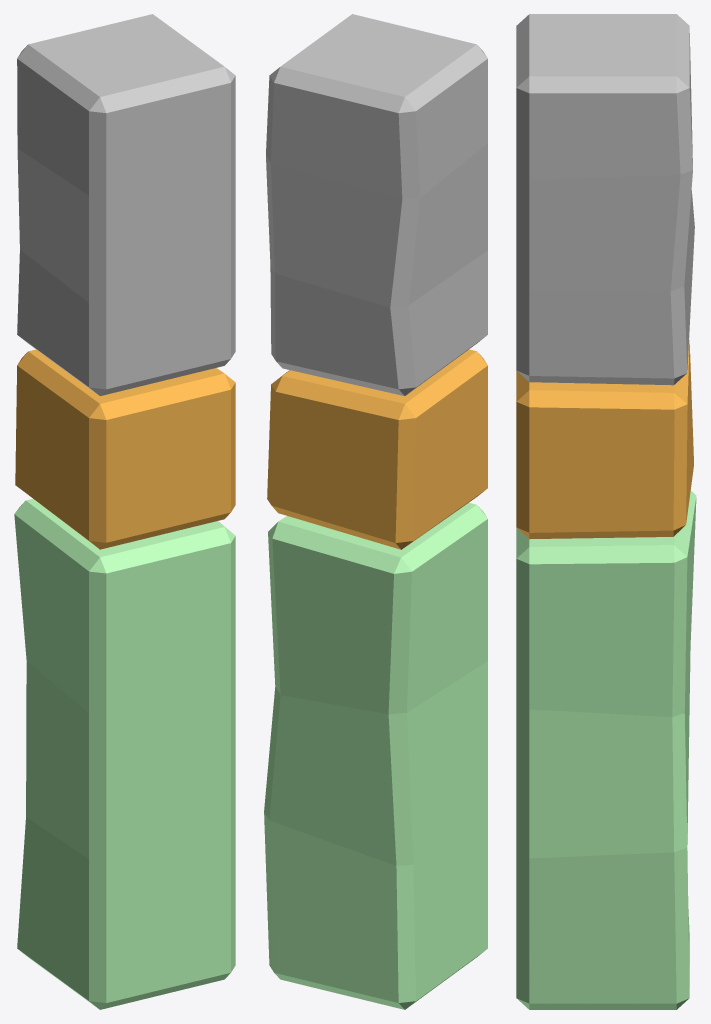
Rendered from Stone.fbx.
3 views of the same model, side by side, from view 1: azimuth 30°, elevation 25°; view 2: azimuth 150°, elevation 25°; view 3: azimuth 270°, elevation 25° (orthographic). The views are drawn at different scales.
Visible parts, largest first — view 1: Stone; view 2: Stone; view 3: Stone.
Part boxes in pixels (x1=…): Stone: x1=14, y1=14, x2=235, y2=1009; Stone: x1=264, y1=14, x2=487, y2=1009; Stone: x1=516, y1=14, x2=696, y2=1009.
Bounding box in the file's own units: 2.12 × 11.9 × 2.08.
